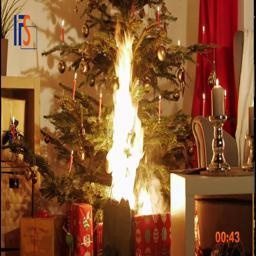fire: (105, 28, 162, 208)
